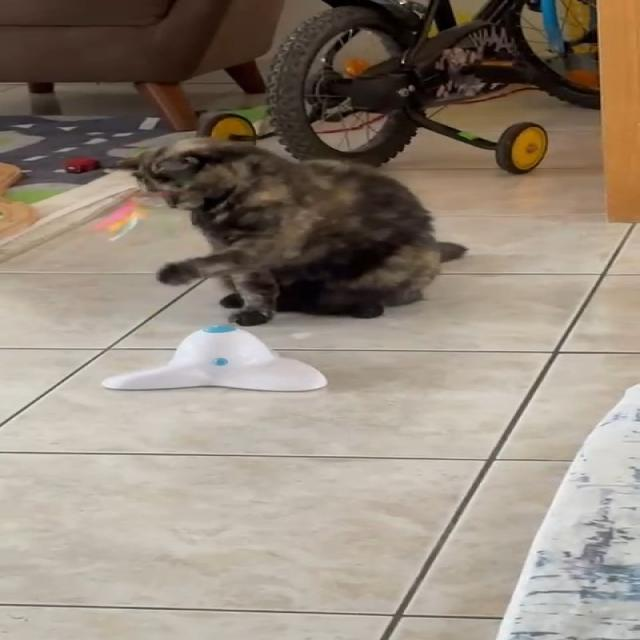authorized: (112, 136, 468, 326)
